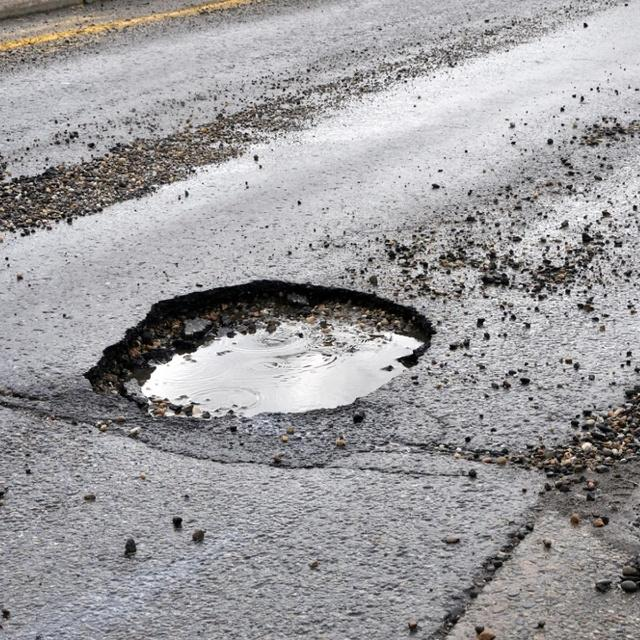pothole: (83, 278, 436, 423)
